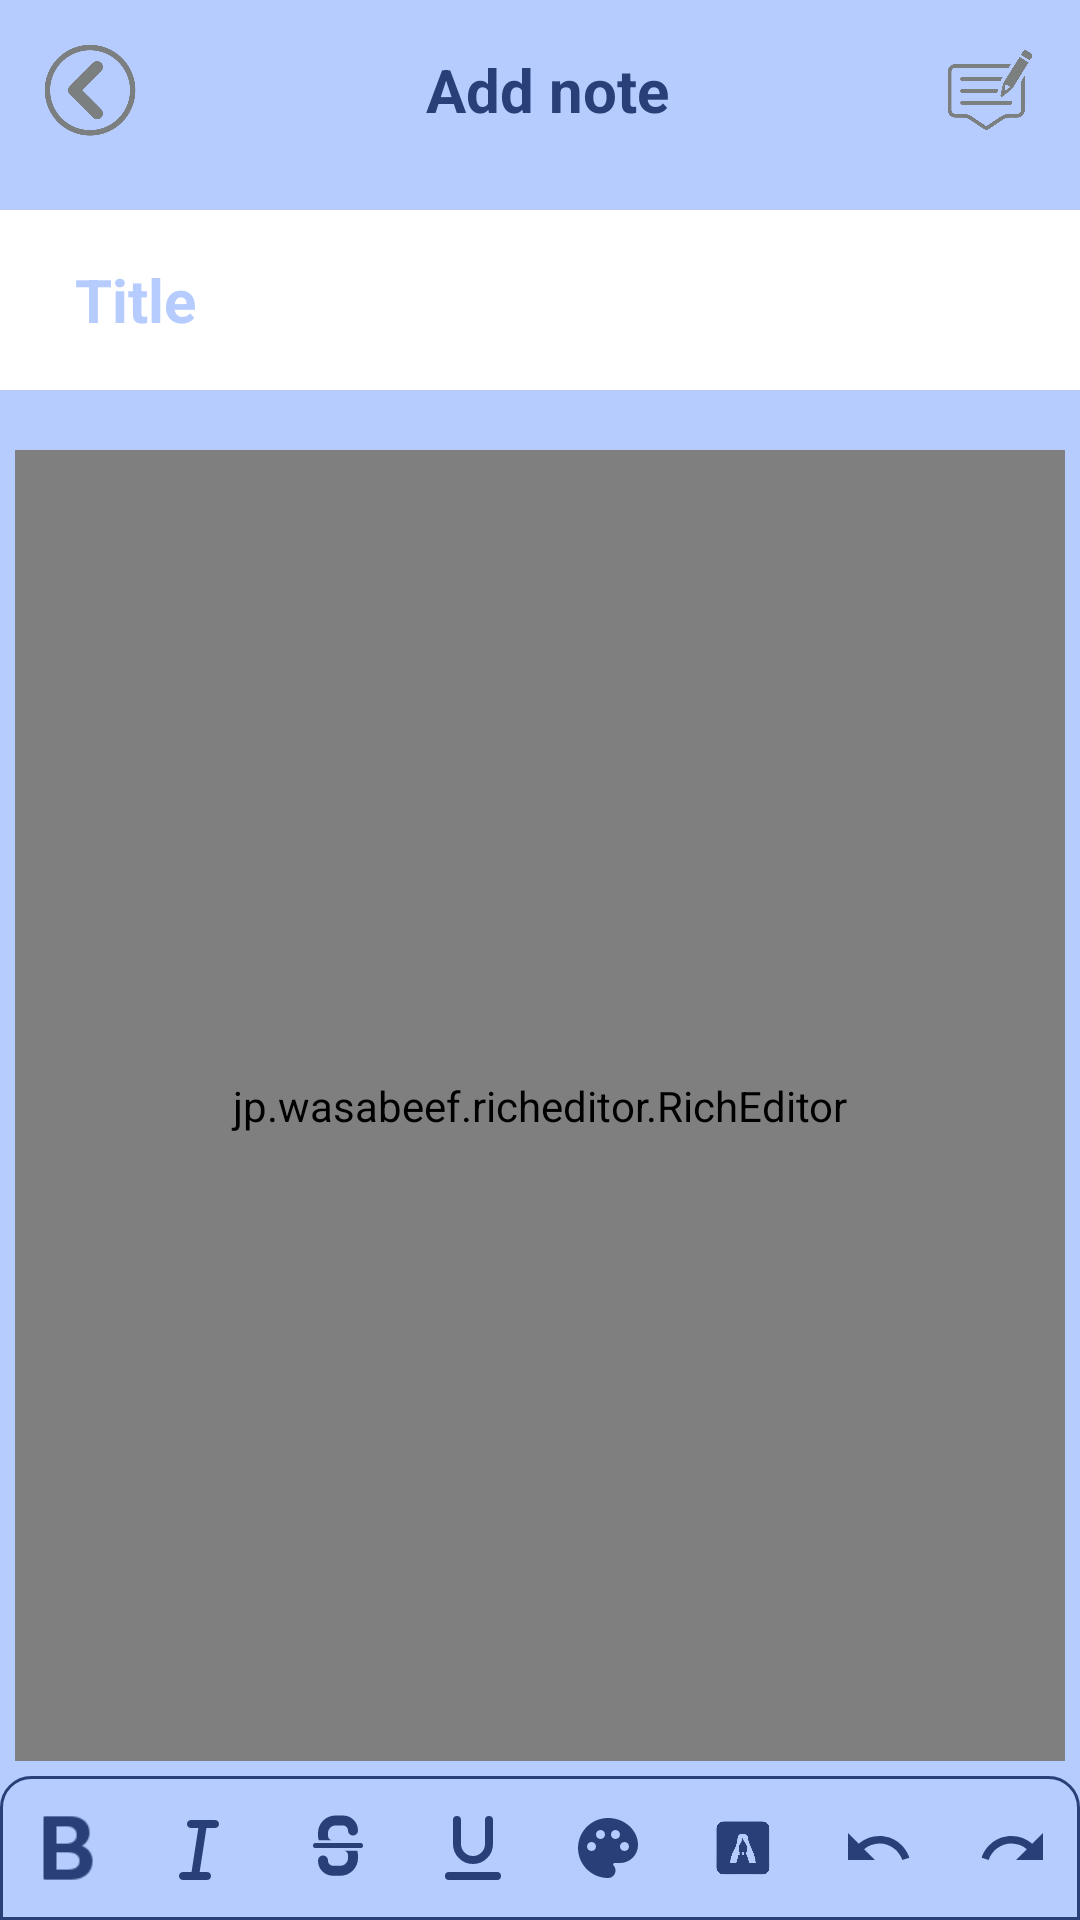

Named icons in this screenshot (1080*1920) and their bounding boxes, bbox=[x1, y1, x2, y2]:
back: bbox=[45, 45, 136, 136]
italic: bbox=[179, 1820, 219, 1880]
palette rich: bbox=[578, 1818, 638, 1878]
redo: bbox=[945, 1776, 1080, 1920]
strikethrough: bbox=[313, 1815, 363, 1876]
underline: bbox=[445, 1816, 501, 1880]
undo: bbox=[848, 1833, 910, 1860]
write: bbox=[948, 50, 1032, 130]
